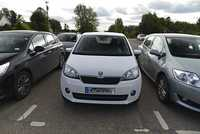car: (58, 33, 143, 103)
